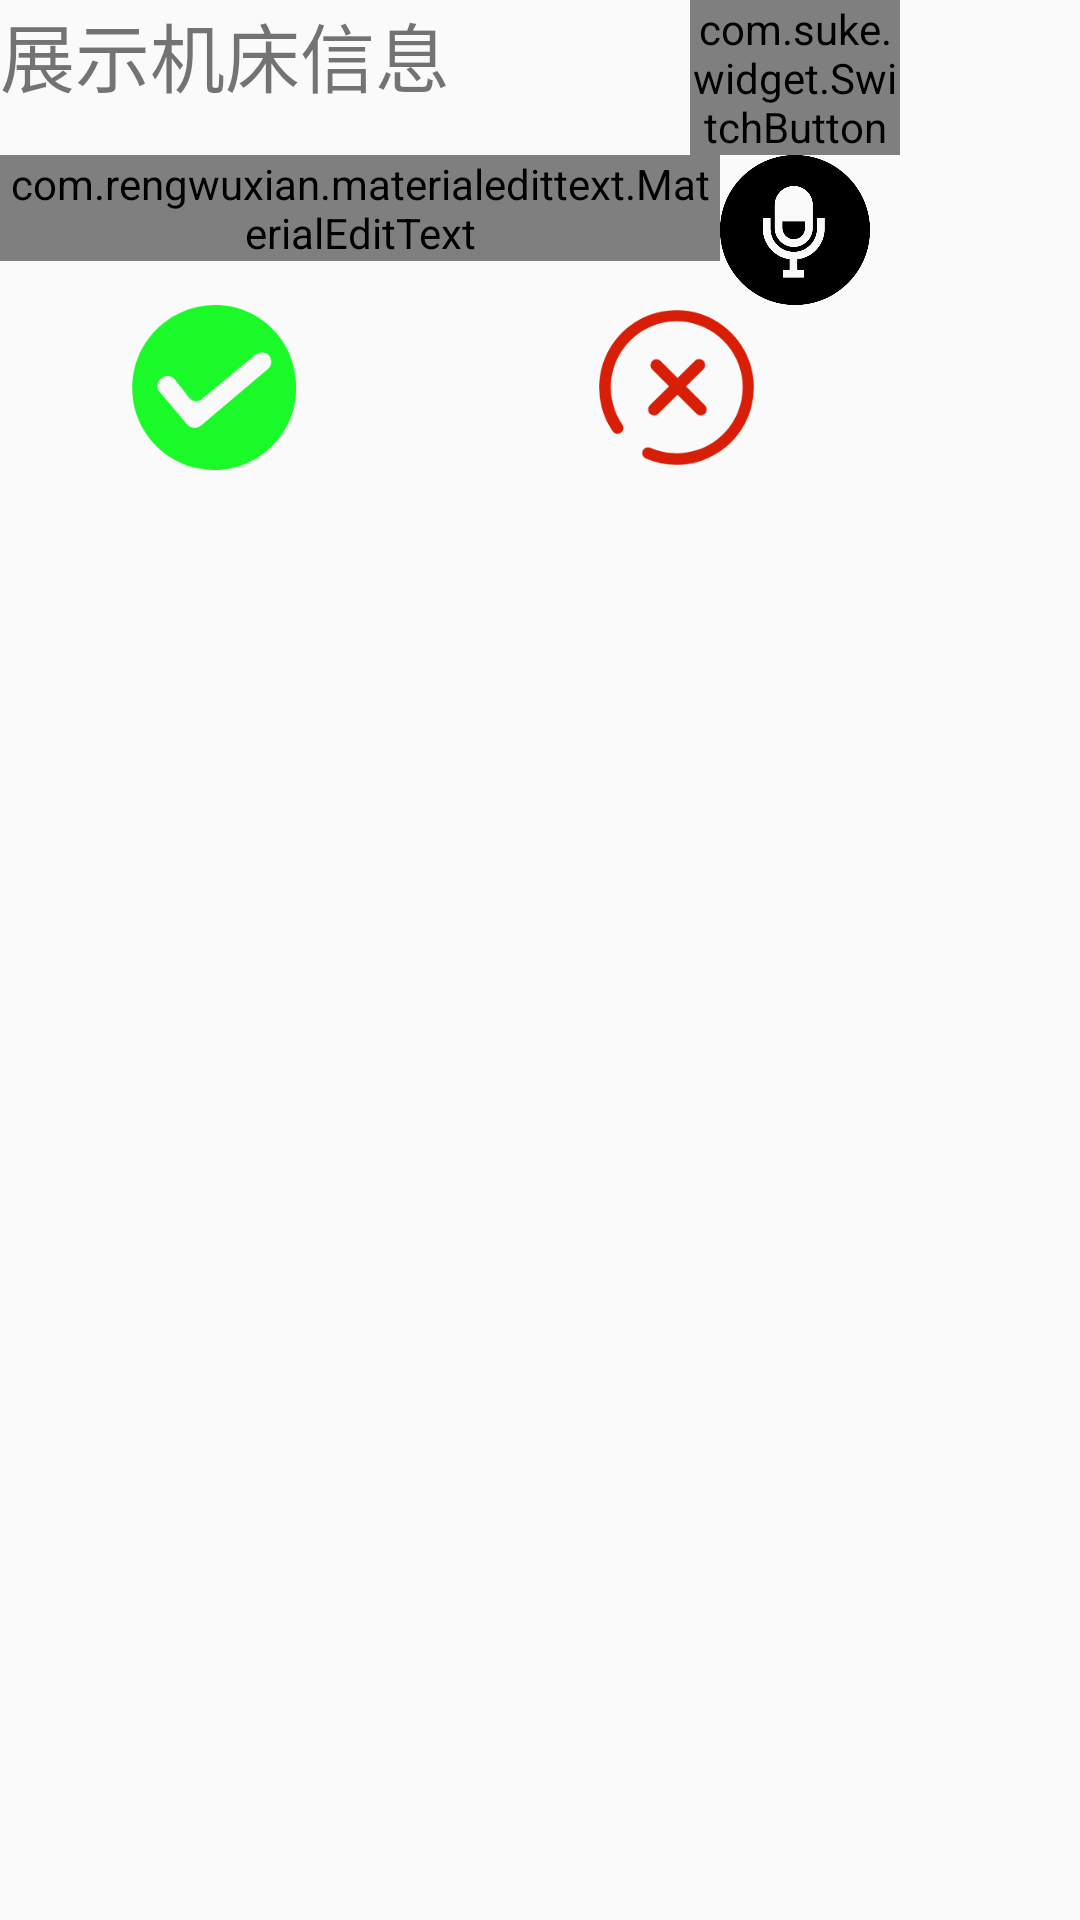

Named icons in this screenshot (1080x1920) and their centers, point (x, y):
cancel: point (676, 387)
check: point (214, 387)
micro: point (795, 230)
